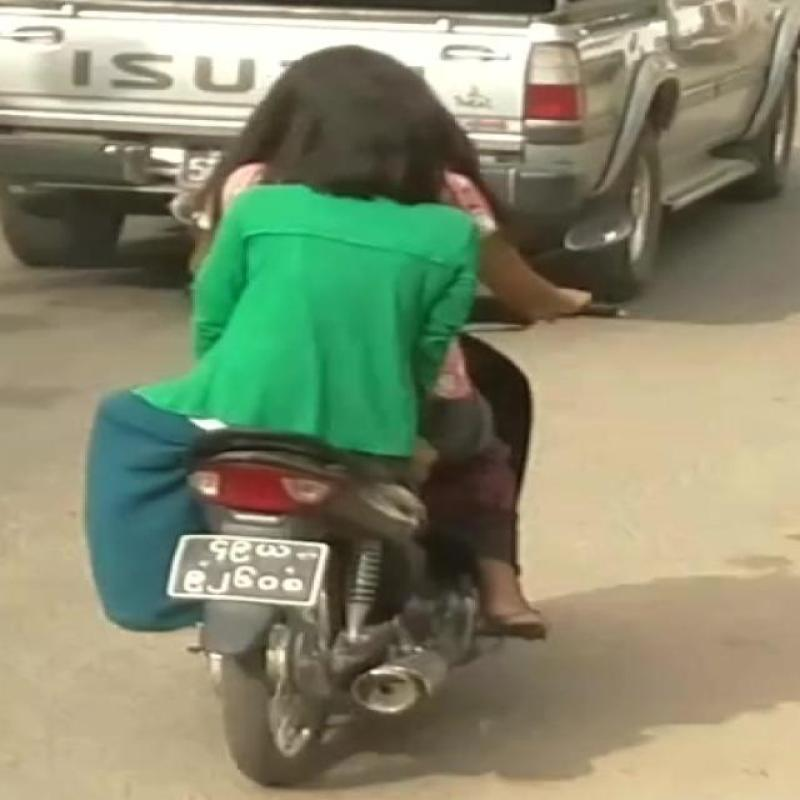nohelmet: (238, 34, 488, 247)
